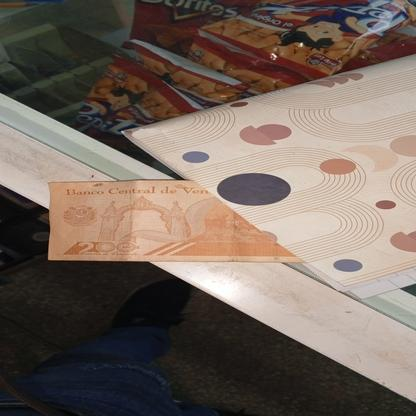twenty-back-vef: (47, 179, 304, 262)
